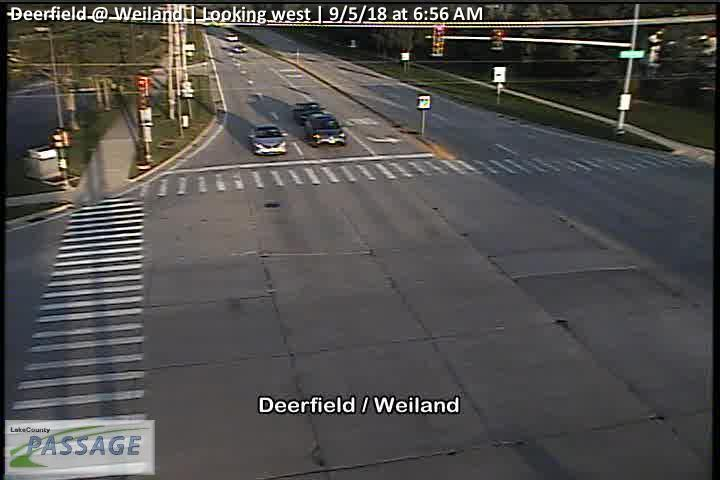SUV: (304, 115, 345, 147), (295, 102, 324, 122)
Sedan: (248, 124, 288, 157)
